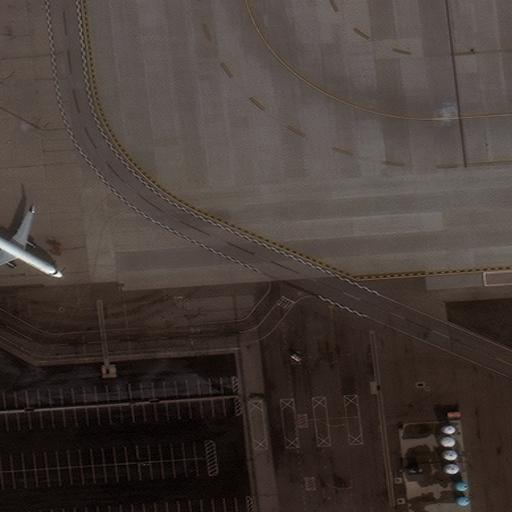Medium Civil Transport: (0, 208, 64, 279)
